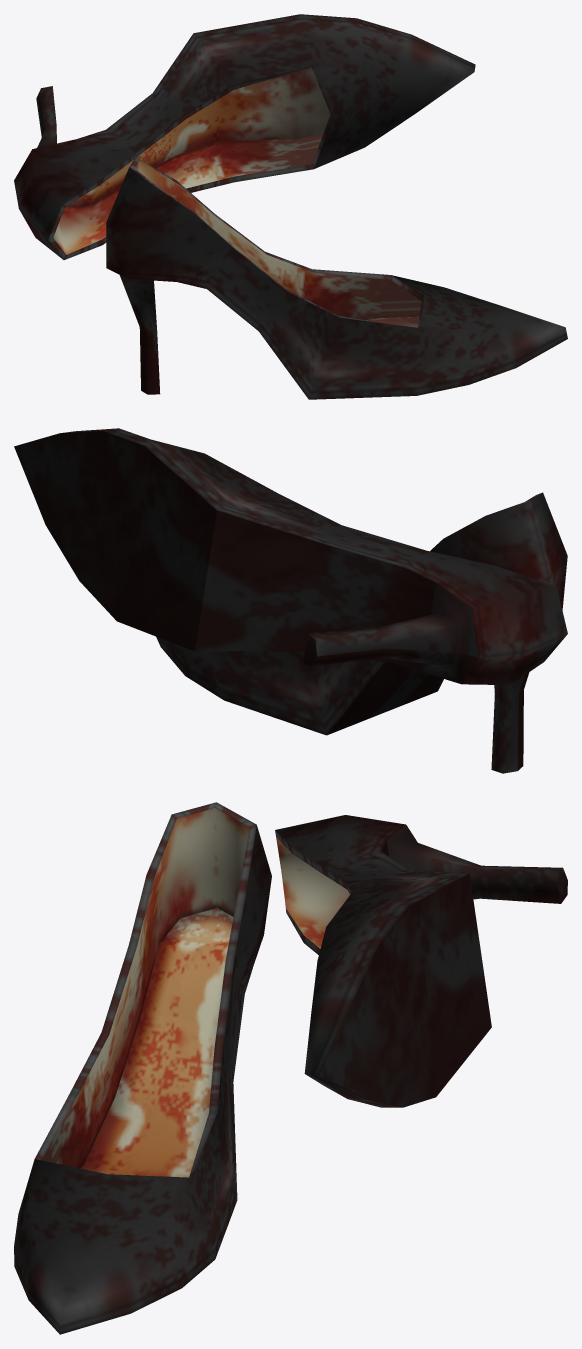
Rendered from TianZhuJiaoTang_01_gaogenxie_01.FBX.
3 renders of one model, top to bottom at view 1: azimuth 30°, elevation 25°; view 2: azimuth 150°, elevation 25°; view 3: azimuth 270°, elevation 25°, orthographic. The views are drawn at different scales.
Parts seen in each view (by area): view 1: TianZhuJiaoTang_01_gaogenxie_01; view 2: TianZhuJiaoTang_01_gaogenxie_01; view 3: TianZhuJiaoTang_01_gaogenxie_01.
Part boxes in pixels (x1,y1,x2,y2): TianZhuJiaoTang_01_gaogenxie_01: [14, 14, 567, 399]; TianZhuJiaoTang_01_gaogenxie_01: [14, 428, 567, 773]; TianZhuJiaoTang_01_gaogenxie_01: [14, 802, 567, 1334].
Bounding box in the file's own units: 190 × 109 × 157.
